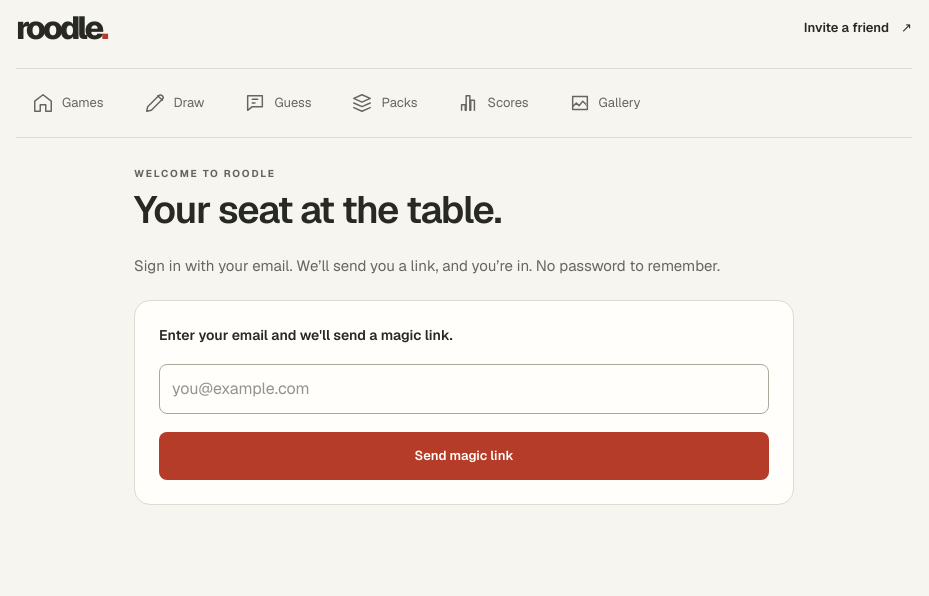
Scenario: phone sign in › uses the email keyboard and recovers from a failed connection
Type "qa@example.com" into the field. click: (464, 388)
box: [159,364,769,414]
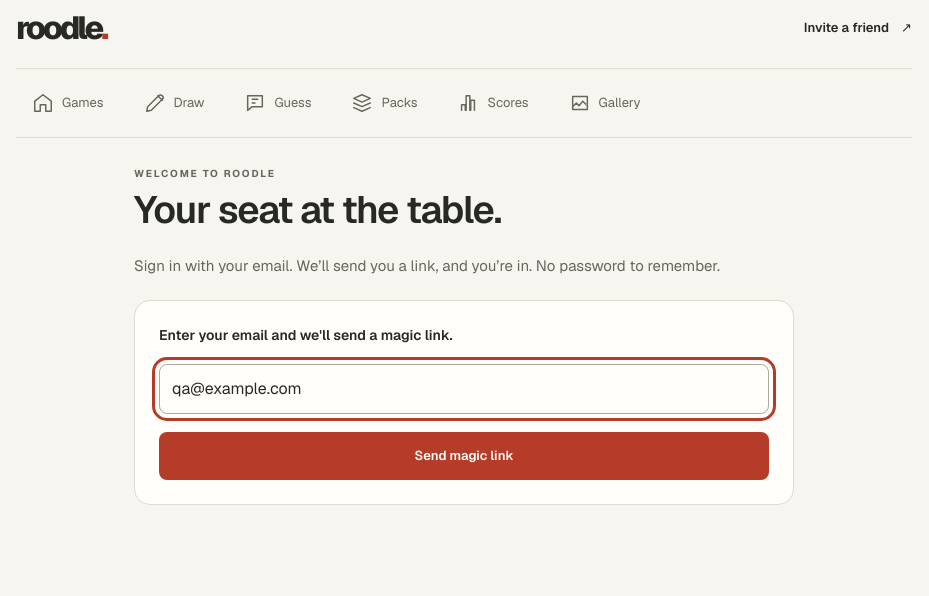
Click the button "Send magic link". click: (464, 456)
box: [159,432,769,480]
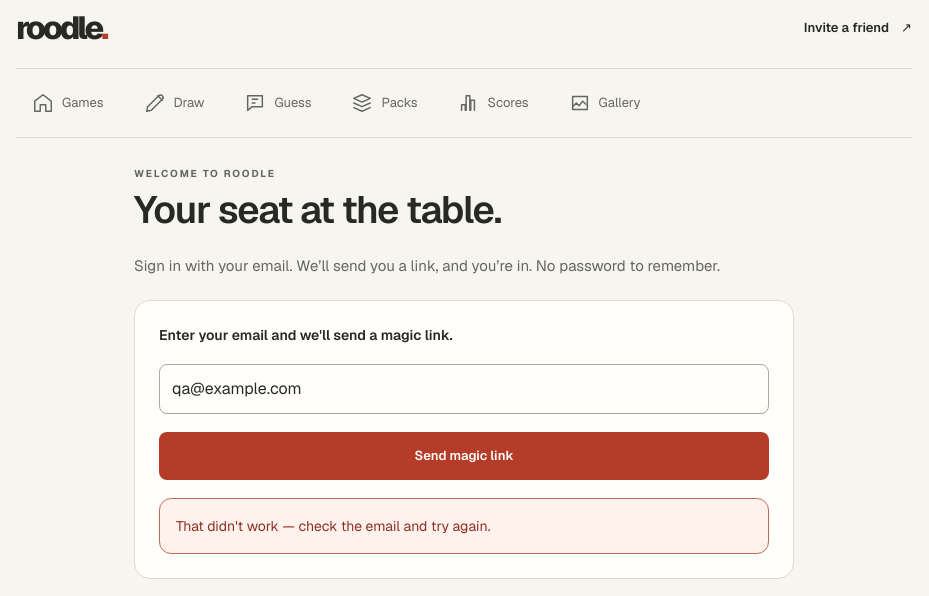
Check: the message shows "try again", box [176,516,490,534]
